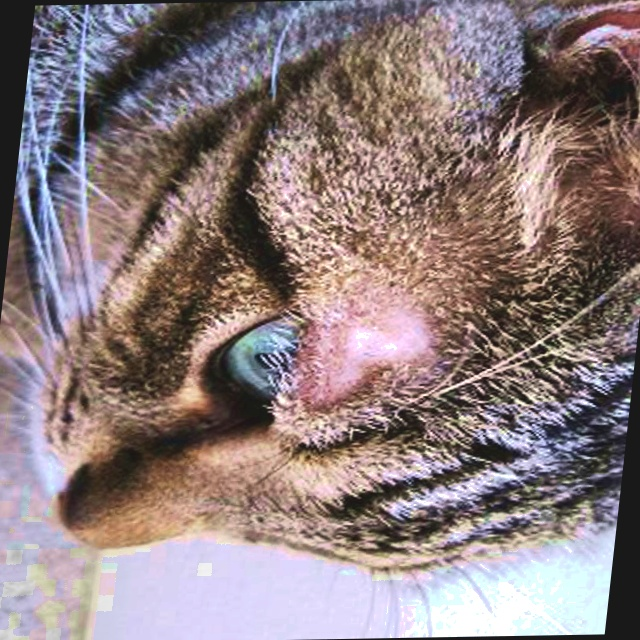hairloss: (326, 318, 441, 389)
